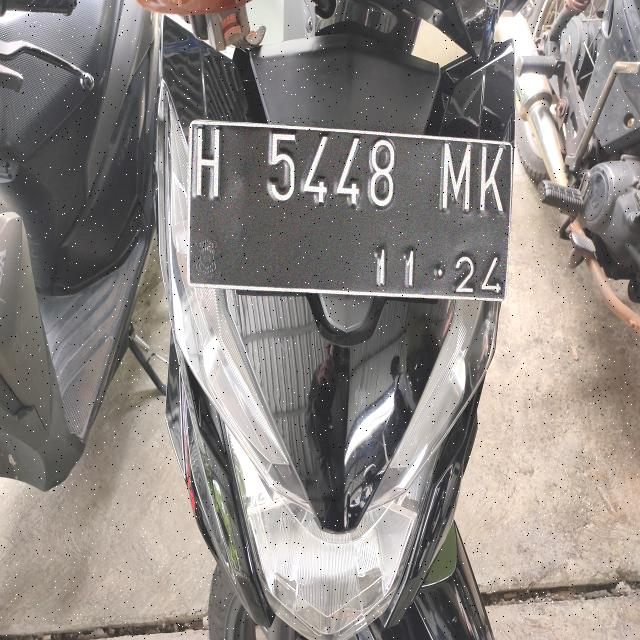plate: (189, 121, 511, 299)
